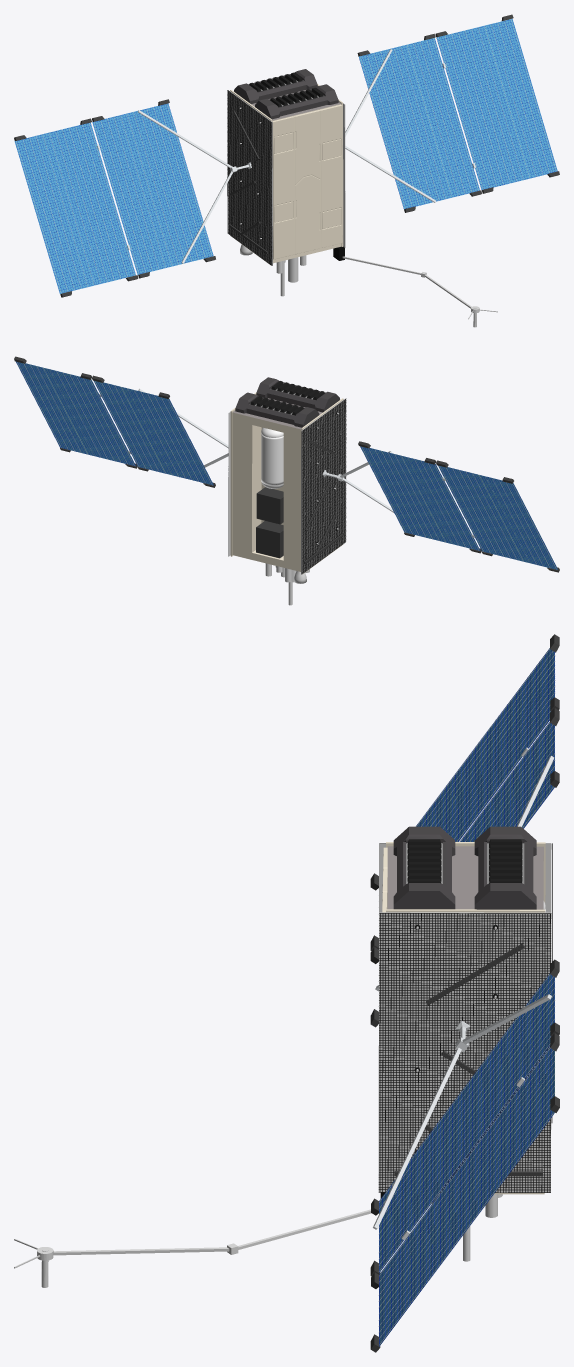
The model's file is GPS_III_Satellite_v4.fbx.
3 renders of one model, top to bottom at view 1: azimuth 30°, elevation 25°; view 2: azimuth 150°, elevation 25°; view 3: azimuth 270°, elevation 25°, orthographic. The views are drawn at different scales.
Parts seen in each view (by area): view 1: Solar Panel.002, Solar Panel.001, Solar Panel.003, Solar Panel, L_1.001, Cube.019, Cube.020, side panel.001, Array Lines3.001, Array Lines3, Array Lines3.002, Array Lines3.003 (+15 smaller); view 2: Satellite-body, Cube.019, Solar Panel.002, Solar Panel.003, Solar Panel.001, Solar Panel, Cube.020, side panel.001, Array Lines3.001, Array Lines3, Array Lines3.002, Array Lines3.003 (+16 smaller); view 3: side panel, Cube.007, Cube.006, Solar Panel.001, Solar Panel, Solar Panel.002, group_0.009, group_0.001, Array Lines2.001, Array Lines2, Array Lines3.001, Array Lines3 (+15 smaller).
Boxes of the visible parts, bbox=[...] form: Solar Panel.002: bbox=[14, 122, 135, 293]; Solar Panel.001: bbox=[436, 18, 557, 189]; Solar Panel.003: bbox=[92, 103, 213, 274]; Solar Panel: bbox=[359, 38, 479, 209]; L_1.001: bbox=[272, 104, 342, 259]; Cube.019: bbox=[227, 90, 272, 265]; Cube.020: bbox=[227, 90, 271, 264]; side panel.001: bbox=[228, 90, 272, 265]; Array Lines3.001: bbox=[436, 20, 557, 189]; Array Lines3: bbox=[359, 39, 479, 208]; Array Lines3.002: bbox=[15, 123, 135, 292]; Array Lines3.003: bbox=[93, 104, 213, 272]; Satellite-body: bbox=[230, 392, 343, 574]; Cube.019: bbox=[302, 398, 346, 573]; Solar Panel.002: bbox=[438, 465, 557, 569]; Solar Panel.003: bbox=[360, 446, 480, 550]; Solar Panel.001: bbox=[16, 361, 135, 466]; Solar Panel: bbox=[94, 381, 213, 485]; Cube.020: bbox=[301, 399, 345, 574]; side panel.001: bbox=[301, 398, 345, 574]; Array Lines3.001: bbox=[16, 362, 135, 465]; Array Lines3: bbox=[94, 382, 213, 485]; Array Lines3.002: bbox=[440, 468, 557, 569]; Array Lines3.003: bbox=[360, 446, 479, 550]; side panel: bbox=[378, 912, 551, 1192]; Cube.007: bbox=[378, 913, 551, 1192]; Cube.006: bbox=[379, 913, 550, 1192]; Solar Panel.001: bbox=[379, 1047, 554, 1346]; Solar Panel: bbox=[379, 974, 554, 1272]; Solar Panel.002: bbox=[416, 648, 554, 841]; group_0.009: bbox=[474, 826, 536, 909]; group_0.001: bbox=[393, 826, 455, 909]; Array Lines2.001: bbox=[379, 1048, 553, 1345]; Array Lines2: bbox=[379, 975, 554, 1271]; Array Lines3.001: bbox=[379, 1047, 553, 1346]; Array Lines3: bbox=[379, 974, 553, 1272].
Size of the model in its own units: 891 by 354 by 434.
